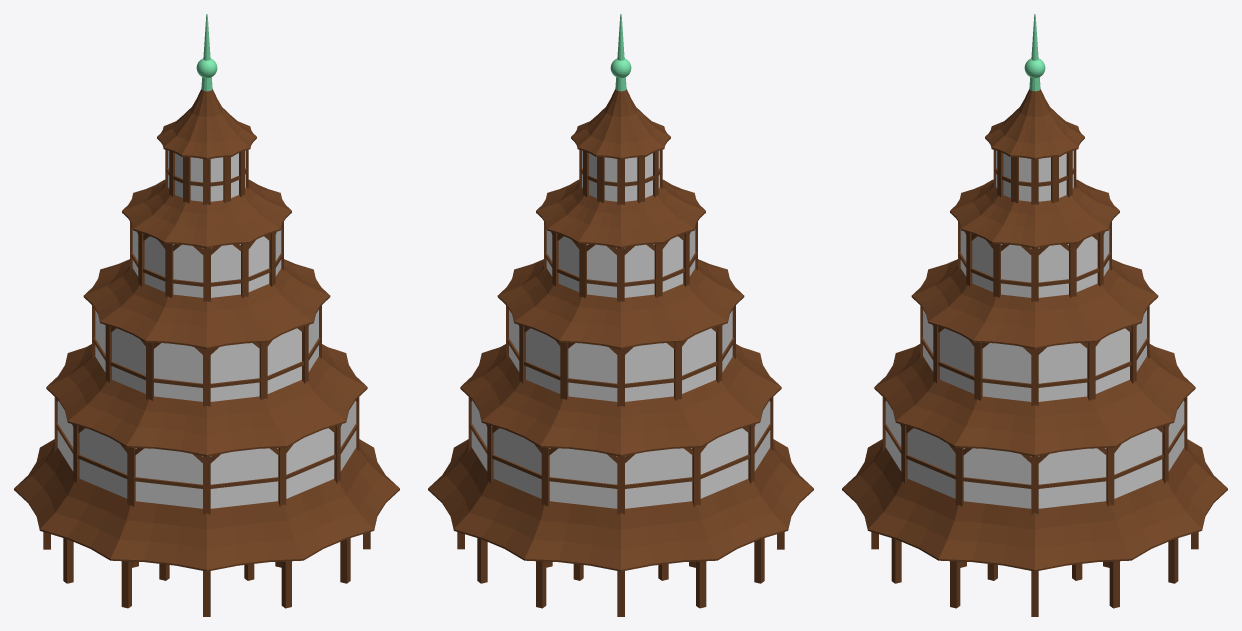
Rendered from Turm_Zerlegt.fbx.
3 renders of one model, left to right at view 1: azimuth 30°, elevation 25°; view 2: azimuth 150°, elevation 25°; view 3: azimuth 270°, elevation 25°, orthographic.
Visible parts, largest first — view 1: Turm_1_stock, Turm_2_stock, Turm_3_stock, Turm_4_stock, Turm_5_Dach, Turm_0_Erdgeschoss, Turm_6_Spitze, Turm_3_stock.001, Turm_0_Erdgeschoss.001; view 2: Turm_1_stock, Turm_2_stock, Turm_3_stock, Turm_4_stock, Turm_5_Dach, Turm_0_Erdgeschoss, Turm_6_Spitze; view 3: Turm_1_stock, Turm_2_stock, Turm_3_stock, Turm_4_stock, Turm_5_Dach, Turm_0_Erdgeschoss, Turm_6_Spitze, Turm_0_Erdgeschoss.002, Turm_1_stock.002, Turm_0_Erdgeschoss.001.
Boxes of the visible parts, x1,y1,x2,y2 form: Turm_1_stock: [14, 397, 399, 571]; Turm_2_stock: [46, 305, 367, 456]; Turm_3_stock: [83, 222, 330, 349]; Turm_4_stock: [122, 150, 291, 248]; Turm_5_Dach: [157, 89, 256, 159]; Turm_0_Erdgeschoss: [43, 532, 370, 616]; Turm_6_Spitze: [196, 14, 217, 91]; Turm_3_stock.001: [158, 240, 181, 297]; Turm_0_Erdgeschoss.001: [275, 538, 350, 583]; Turm_1_stock: [428, 397, 813, 571]; Turm_2_stock: [460, 305, 781, 456]; Turm_3_stock: [497, 229, 744, 349]; Turm_4_stock: [536, 150, 705, 248]; Turm_5_Dach: [571, 89, 670, 159]; Turm_0_Erdgeschoss: [477, 532, 784, 616]; Turm_6_Spitze: [610, 14, 631, 91]; Turm_1_stock: [842, 397, 1227, 571]; Turm_2_stock: [874, 305, 1195, 456]; Turm_3_stock: [911, 222, 1158, 349]; Turm_4_stock: [950, 150, 1119, 248]; Turm_5_Dach: [985, 89, 1084, 159]; Turm_0_Erdgeschoss: [871, 532, 1198, 616]; Turm_6_Spitze: [1024, 14, 1045, 91]; Turm_0_Erdgeschoss.002: [1072, 561, 1119, 608]; Turm_1_stock.002: [948, 444, 971, 506]; Turm_0_Erdgeschoss.001: [891, 538, 966, 583].
Size of the model in its own units: 2052 by 3130 by 2052.
